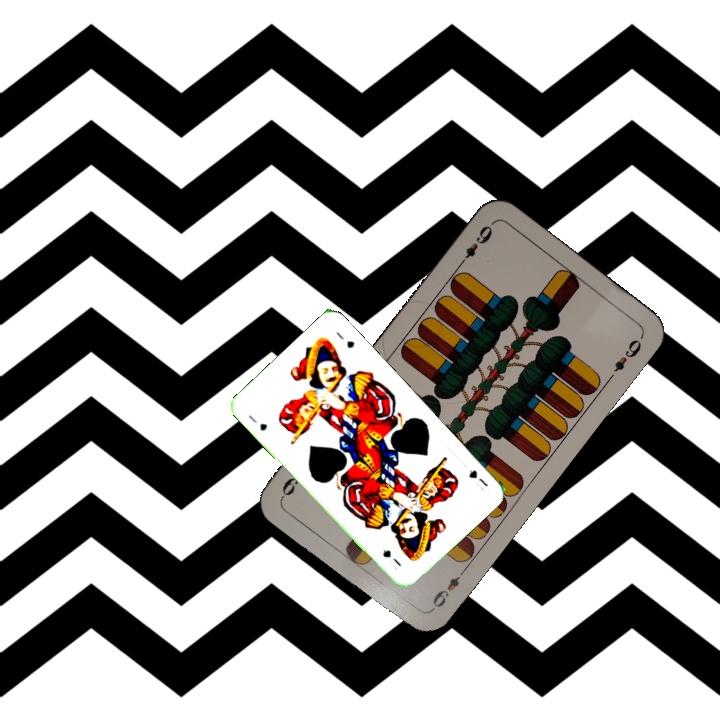E9: (454, 219, 496, 269), (427, 564, 469, 614)
GU: (464, 466, 491, 489), (244, 411, 270, 434)
